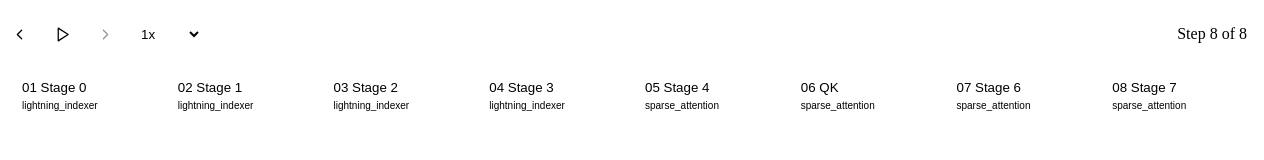
Test: restarts at the first stage and plays when Play is clicked at Output
Click the button named "Play shape trace": click(62, 34) [44,16,80,52]
Wait 1100 ms
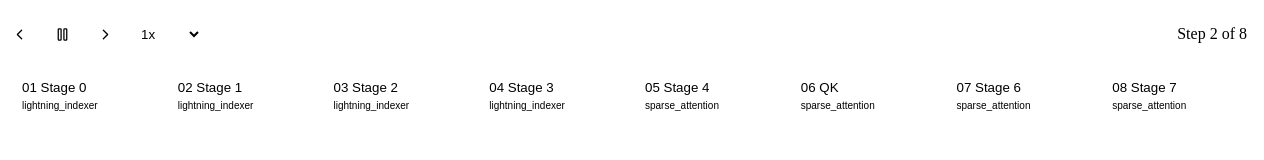
Expected: the text "Step 1 of 8" is shown, [1177,25,1247,43]
Expected: the button named "Pause shape trace" is shown, [44,16,80,52]
